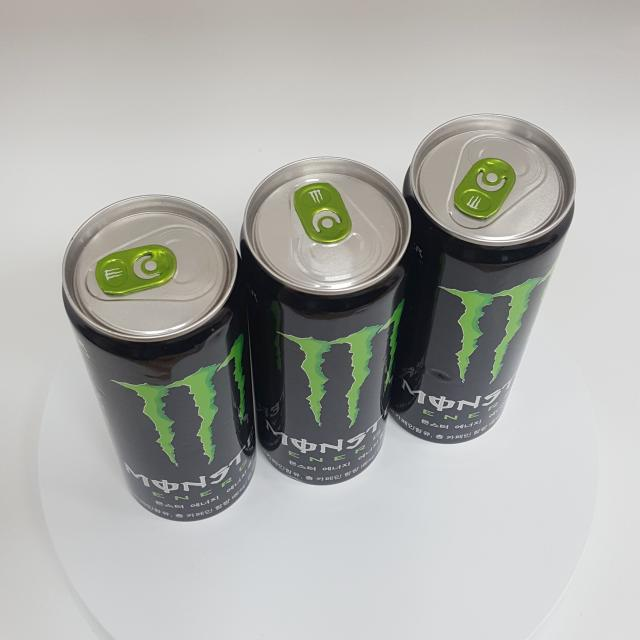--------355ML: (61, 193, 257, 522), (384, 113, 576, 444), (239, 156, 413, 486)
